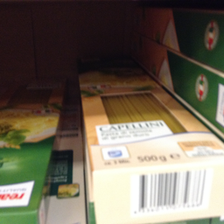pasta: (78, 57, 222, 224), (1, 77, 65, 224)
